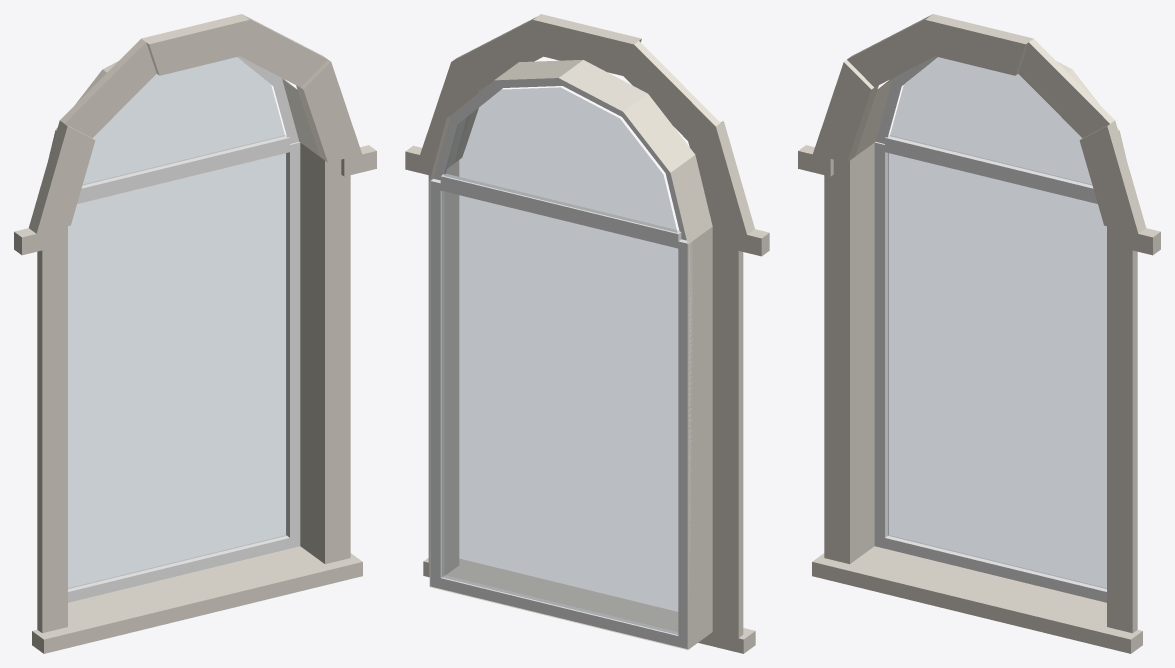
File: win_arch_stone_1.5x3.0_lod1.glb
The picture shows the model from 3 angles, left to right: view 1: azimuth 30°, elevation 25°; view 2: azimuth 150°, elevation 25°; view 3: azimuth 330°, elevation 25°; orthographic projection.
Parts seen in each view (by area): view 1: win_arch; view 2: win_arch; view 3: win_arch.
Boxes of the visible parts, <box> form: win_arch: <box>14,14,376,653</box>; win_arch: <box>405,14,769,653</box>; win_arch: <box>798,14,1160,653</box>.
Size of the model in its own units: 2.07 by 3.23 by 0.37.
